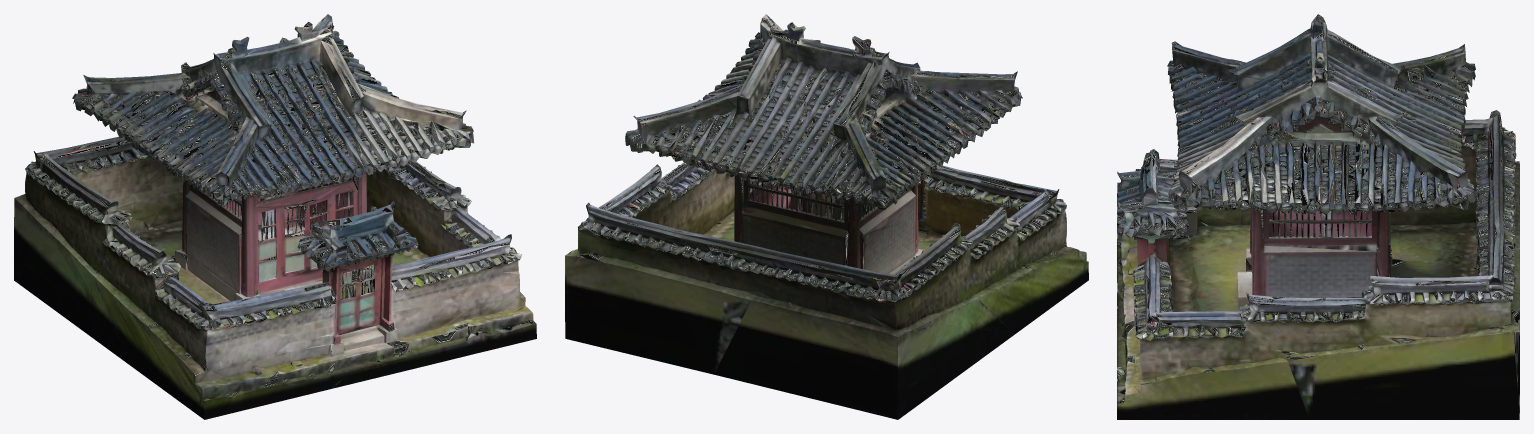
The model's file is pavilion.glb.
3 renders of one model, left to right at view 1: azimuth 30°, elevation 25°; view 2: azimuth 150°, elevation 25°; view 3: azimuth 270°, elevation 25°, orthographic. The views are drawn at different scales.
Visible parts, largest first — view 1: default; view 2: default; view 3: default.
Part boxes in pixels (<box>): default: <box>14,14,536,419</box>; default: <box>565,14,1088,419</box>; default: <box>1117,14,1519,419</box>.
Bounding box in the file's own units: 8.4 × 6.76 × 8.34.
1 material, 1 textured.
